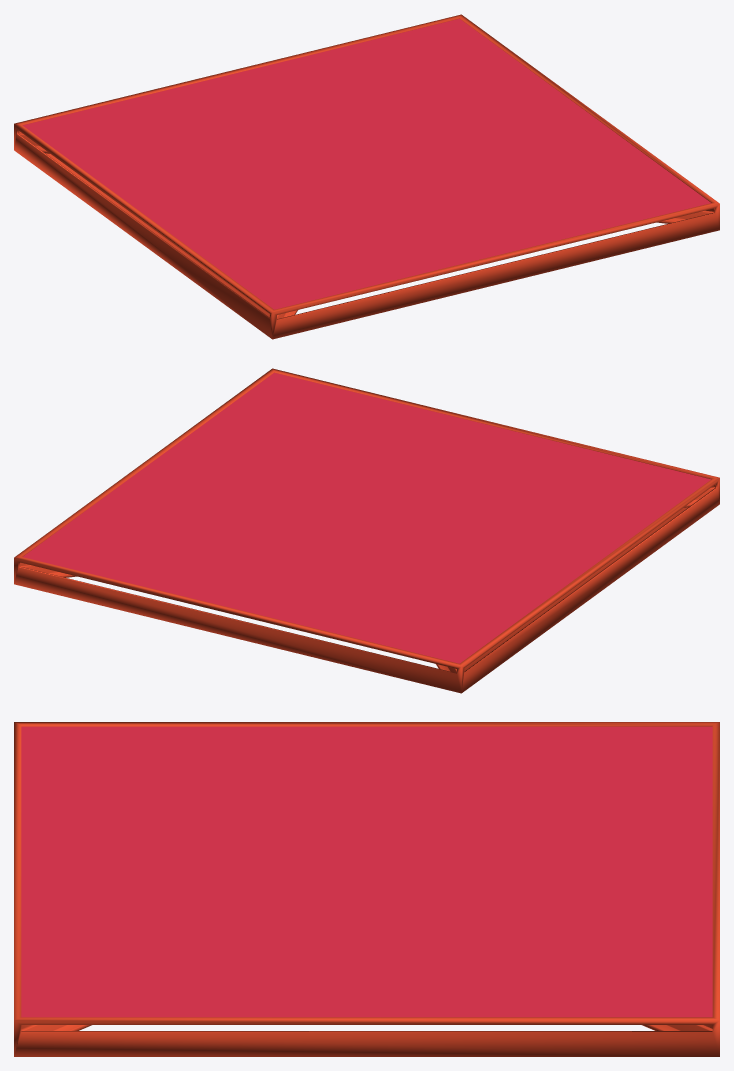
The model's file is SM_GrateMoving.fbx.
3 views of the same model, one above another, from view 1: azimuth 30°, elevation 25°; view 2: azimuth 150°, elevation 25°; view 3: azimuth 270°, elevation 25° (orthographic). The views are drawn at different scales.
Parts seen in each view (by area): view 1: gratefinal.005; view 2: gratefinal.005; view 3: gratefinal.005.
Boxes of the visible parts, x1,y1,x2,y2 form: gratefinal.005: [14, 14, 719, 339]; gratefinal.005: [14, 368, 719, 693]; gratefinal.005: [14, 722, 719, 1056].
Bounding box in the file's own units: 168 × 10.24 × 168.
